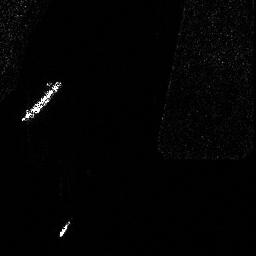ship: (22, 81, 63, 121), (59, 221, 72, 236)
